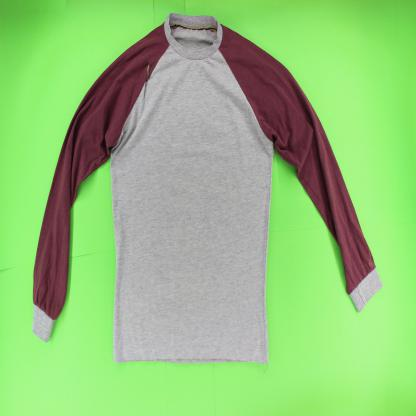hole: (142, 60, 152, 104)
